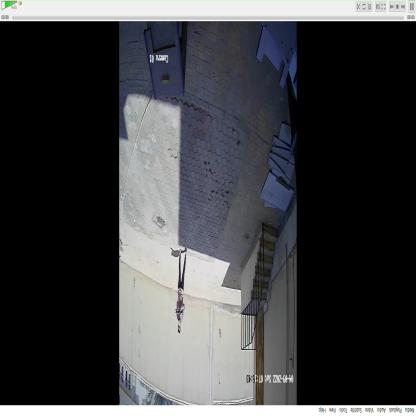handgun: (172, 306, 188, 315)
